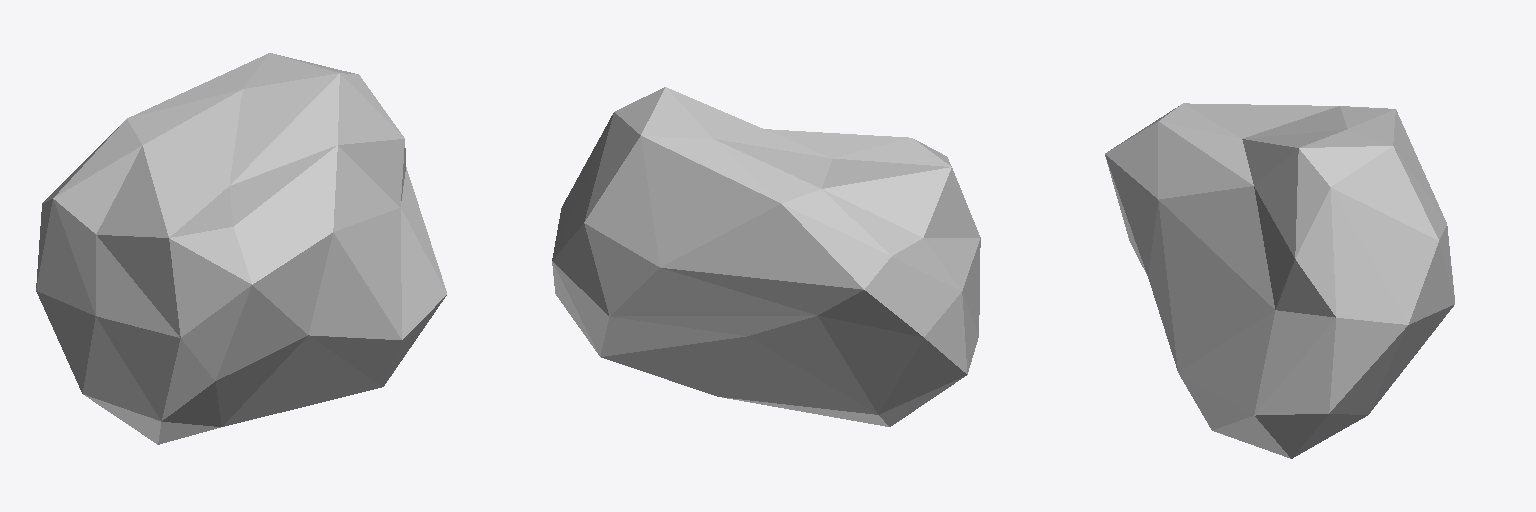
The model's file is Asteroid1.obj.
3 views of the same model, side by side, from view 1: azimuth 30°, elevation 25°; view 2: azimuth 150°, elevation 25°; view 3: azimuth 270°, elevation 25° (orthographic).
Parts seen in each view (by area): view 1: Asteroid_5; view 2: Asteroid_5; view 3: Asteroid_5.
Part boxes in pixels (x1,y1,x2,y2): Asteroid_5: (36,53,446,444); Asteroid_5: (552,87,980,426); Asteroid_5: (1105,103,1454,458).
Size of the model in its own units: 95.76 by 74.61 by 77.36.